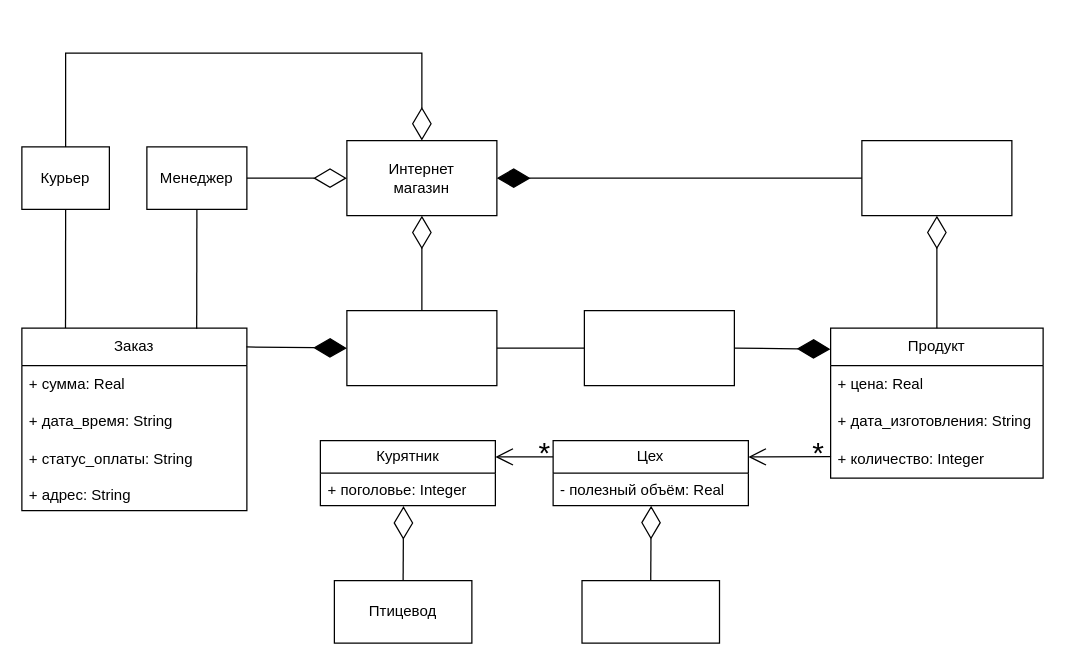
The diagram is 1065 pixels wide and 665 high, and some of its shapes have lost their labels. Here are the shapes that lost their labels. From the top down, the centre of each, then its label:
At point 936,177: "Категория".
At point 421,347: "Покупатель".
At point 658,347: "Отзыв".
At point 650,611: "Работник цеха".
